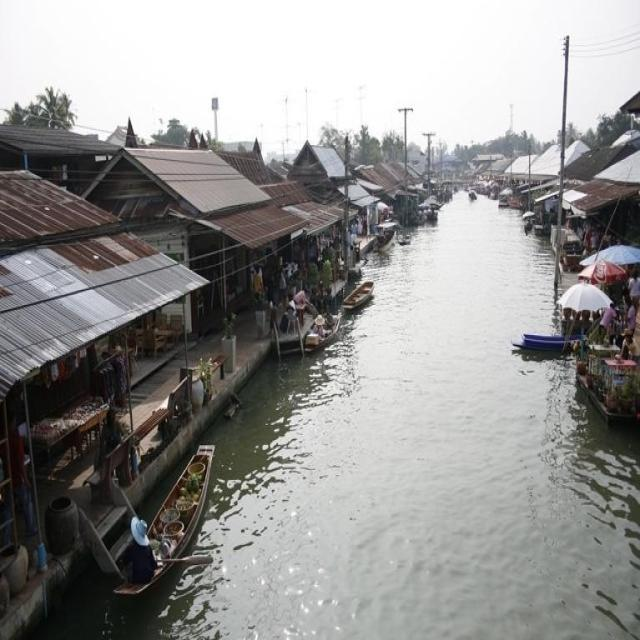boat: (103, 436, 220, 614), (308, 309, 342, 352), (347, 274, 373, 311), (466, 187, 478, 204)
